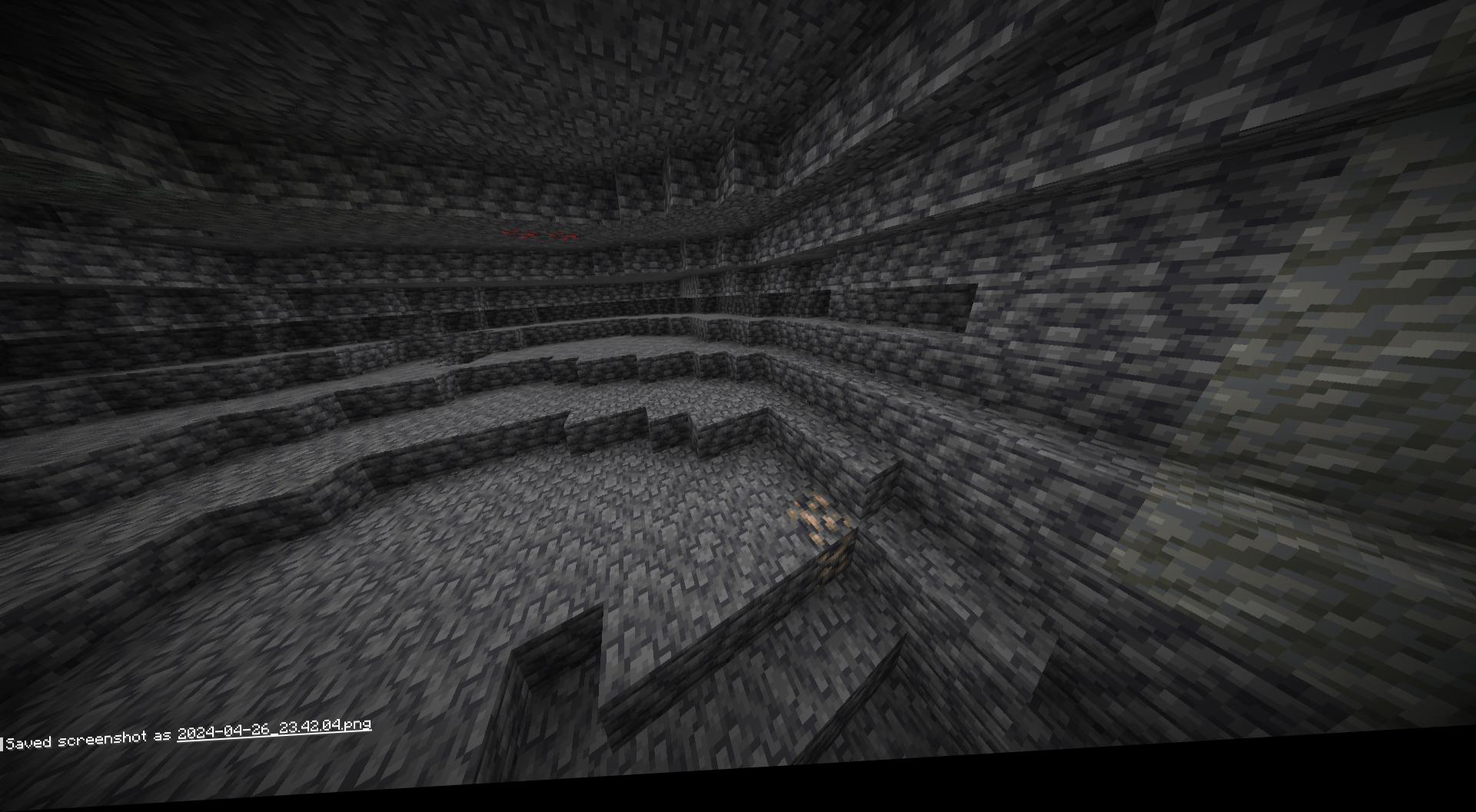iron ore: (787, 501, 846, 558), (817, 547, 856, 597)
redstone ore: (538, 224, 582, 255), (502, 230, 539, 253)
